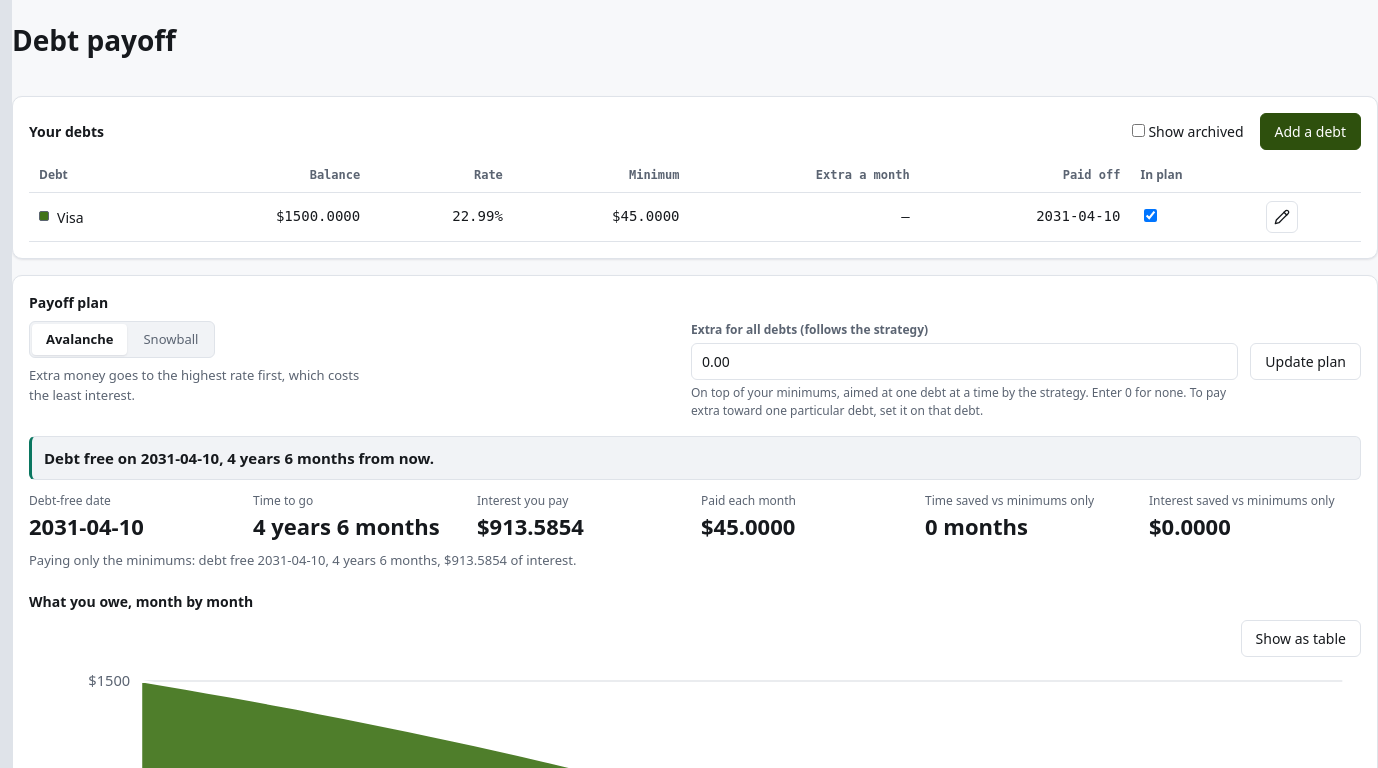
Test case: leaving a debt out of the plan › disables the box on an archived debt
Expected: the text "Debt free on 2031-04-10, 4 years 6 months from now." is shown, left=29, top=436, right=1361, bottom=480
Step 1. Click the checkbox labelled "Show archived" → (1139, 130), box left=1132, top=124, right=1145, bottom=136
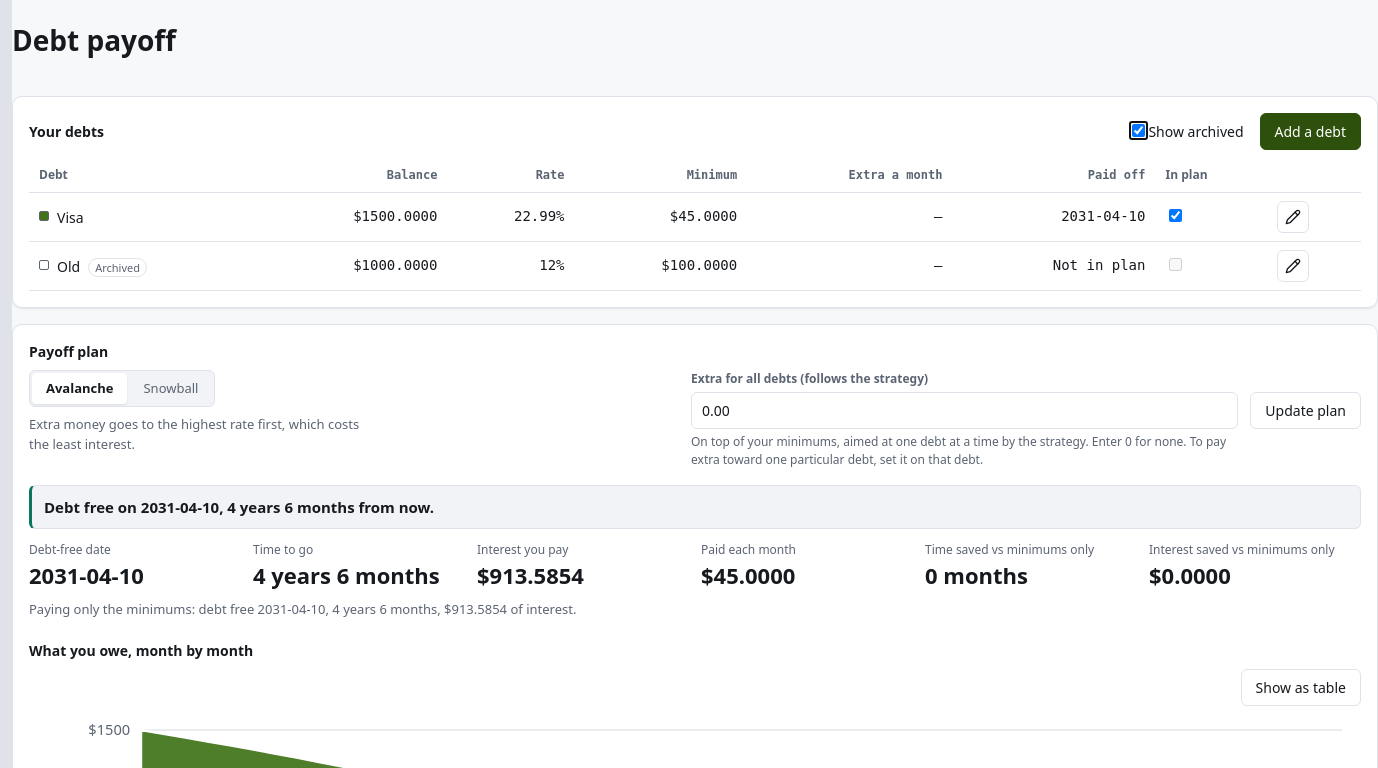
Expected: the text "Old" is shown, left=57, top=257, right=80, bottom=276
